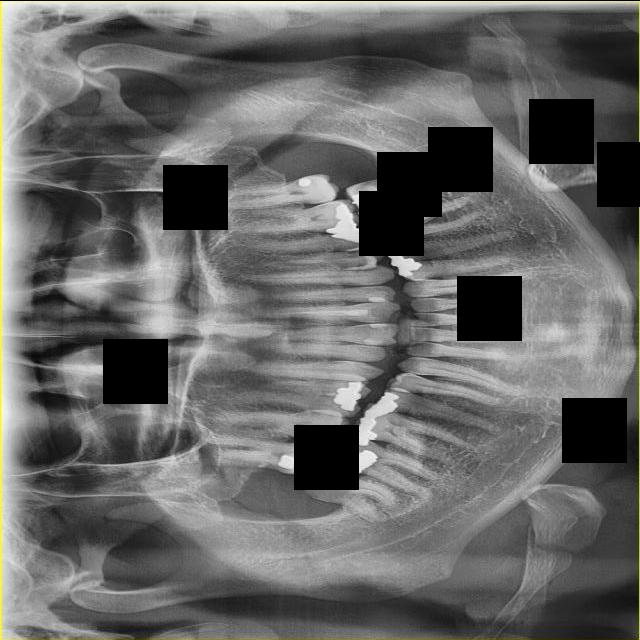74: (288, 308, 368, 318)
NucleOSS Implant: (350, 396, 394, 445), (365, 206, 407, 253), (326, 427, 370, 468), (344, 189, 388, 225), (340, 442, 380, 481), (319, 201, 358, 239), (330, 223, 372, 244), (385, 240, 415, 267), (374, 388, 401, 412), (336, 379, 363, 400), (304, 429, 335, 446), (397, 259, 425, 277), (277, 453, 300, 470), (333, 395, 357, 411), (299, 452, 317, 467), (296, 174, 313, 188)
Sterngold Implant: (303, 471, 349, 505), (355, 265, 380, 275), (344, 248, 367, 255)
Straumann Implant: (355, 177, 393, 213), (367, 296, 390, 302), (363, 337, 382, 344), (369, 322, 388, 327)
